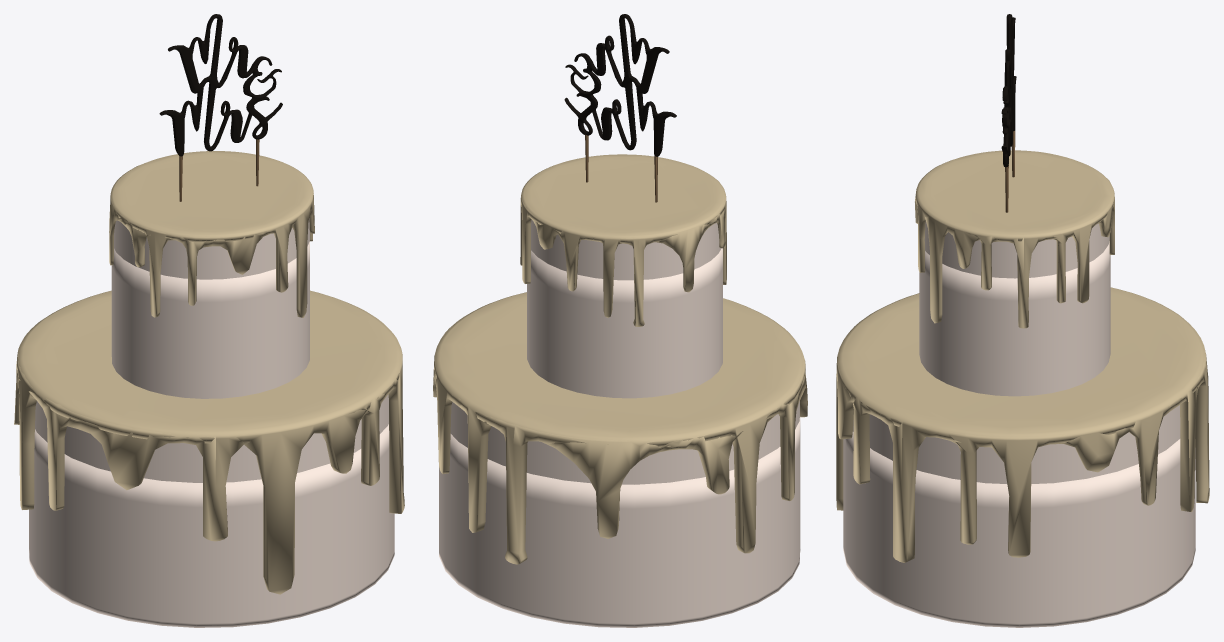
Rendered from 2-tier-white-ganache-mrms.glb.
3 renders of one model, left to right at view 1: azimuth 30°, elevation 25°; view 2: azimuth 150°, elevation 25°; view 3: azimuth 270°, elevation 25°, orthographic.
Visible parts, largest first — view 1: Cylinder.023, tHE ICING.004, Cylinder.013, tHE ICING.003, mrms; view 2: Cylinder.023, tHE ICING.004, Cylinder.013, tHE ICING.003, mrms; view 3: Cylinder.023, tHE ICING.004, Cylinder.013, tHE ICING.003, mrms.
Boxes of the visible parts, x1=… form: Cylinder.023: x1=29, y1=394, x2=394, y2=627; tHE ICING.004: x1=14, y1=290, x2=404, y2=594; Cylinder.013: x1=111, y1=218, x2=309, y2=398; tHE ICING.003: x1=109, y1=151, x2=314, y2=317; mrms: x1=159, y1=14, x2=282, y2=201; Cylinder.023: x1=439, y1=401, x2=800, y2=627; tHE ICING.004: x1=433, y1=292, x2=807, y2=564; Cylinder.013: x1=527, y1=220, x2=722, y2=398; tHE ICING.003: x1=520, y1=154, x2=726, y2=326; mrms: x1=564, y1=14, x2=676, y2=202; Cylinder.023: x1=843, y1=405, x2=1195, y2=627; tHE ICING.004: x1=836, y1=287, x2=1209, y2=562; Cylinder.013: x1=919, y1=221, x2=1110, y2=396; tHE ICING.003: x1=915, y1=150, x2=1114, y2=328; mrms: x1=1001, y1=14, x2=1016, y2=212.
Size of the model in its own units: 3.53 by 5.48 by 3.46.
